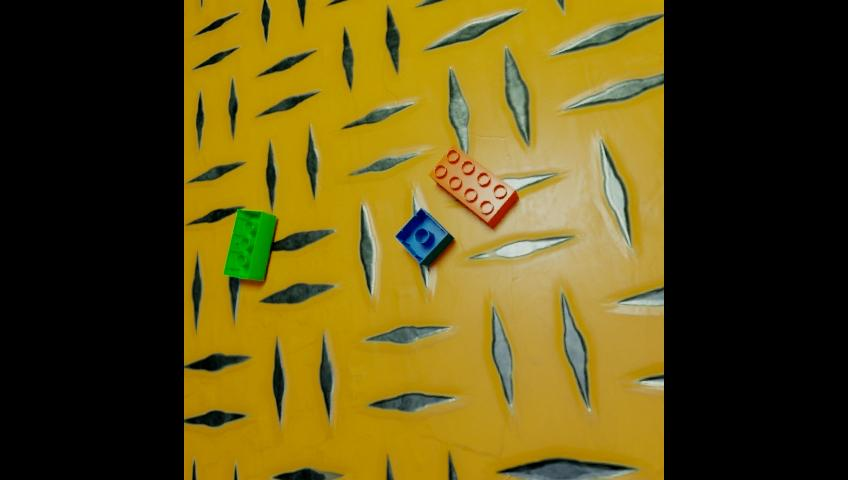2x2_blue: (394, 208, 454, 266)
4x2_green: (222, 210, 276, 280)
4x2_orange: (428, 145, 518, 227)
